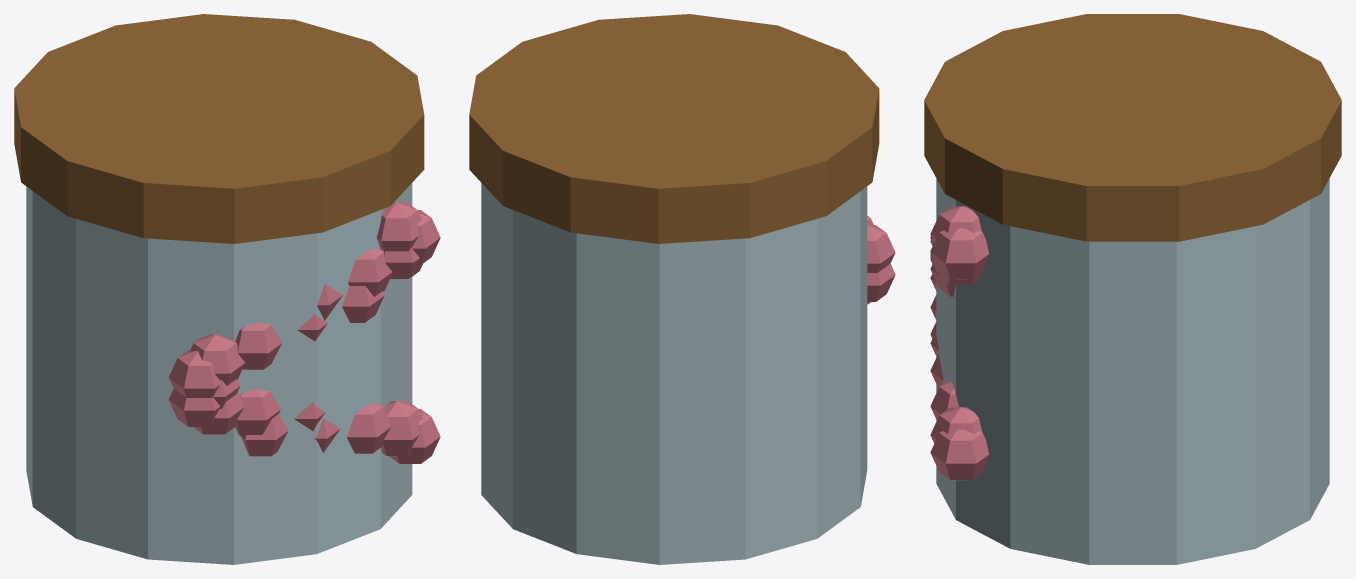
Rendered from bait-worm.glb.
3 renders of one model, left to right at view 1: azimuth 30°, elevation 25°; view 2: azimuth 150°, elevation 25°; view 3: azimuth 270°, elevation 25°, orthographic.
Parts seen in each view (by area): view 1: bait-worm; view 2: bait-worm; view 3: bait-worm.
Boxes of the visible parts, x1,y1,x2,y2 form: bait-worm: (14,14,440,564); bait-worm: (469,14,895,564); bait-worm: (924,14,1341,564).
Bounding box in the file's own units: 0.663 × 0.69 × 0.68.
